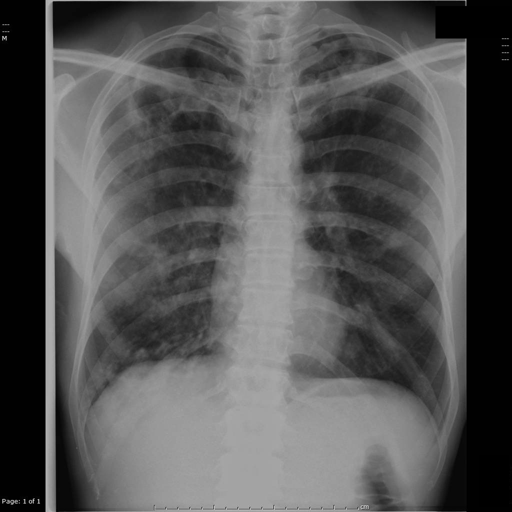TB: (124, 80, 199, 156), (118, 249, 187, 316)
